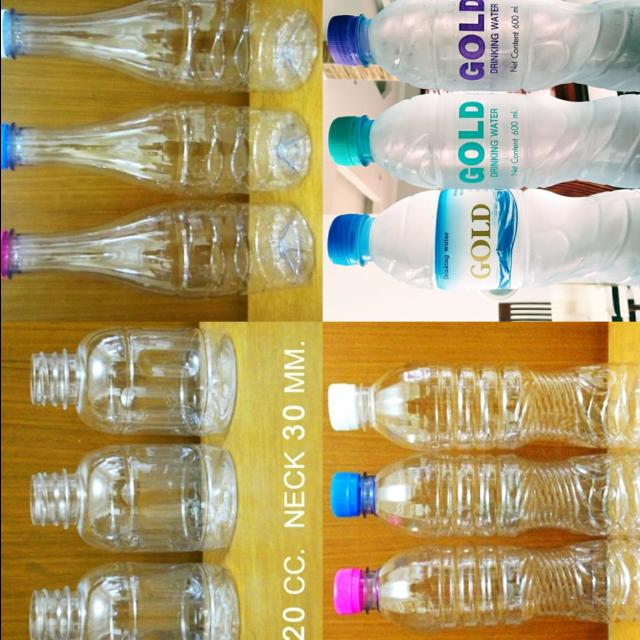plastik: (327, 189, 640, 290), (0, 201, 312, 297), (327, 94, 640, 189), (0, 0, 316, 91), (326, 0, 640, 91), (333, 540, 640, 633), (0, 103, 310, 195), (327, 363, 640, 452), (330, 454, 640, 537), (30, 445, 236, 551), (30, 329, 234, 434), (29, 562, 238, 640)
